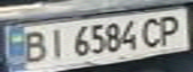4: (118, 17, 142, 52)
5: (87, 20, 109, 55)
6: (69, 23, 90, 57)
8: (103, 19, 124, 53)
B: (15, 27, 51, 66)
C: (136, 14, 169, 48)
I: (42, 25, 69, 60)
P: (154, 11, 190, 46)
